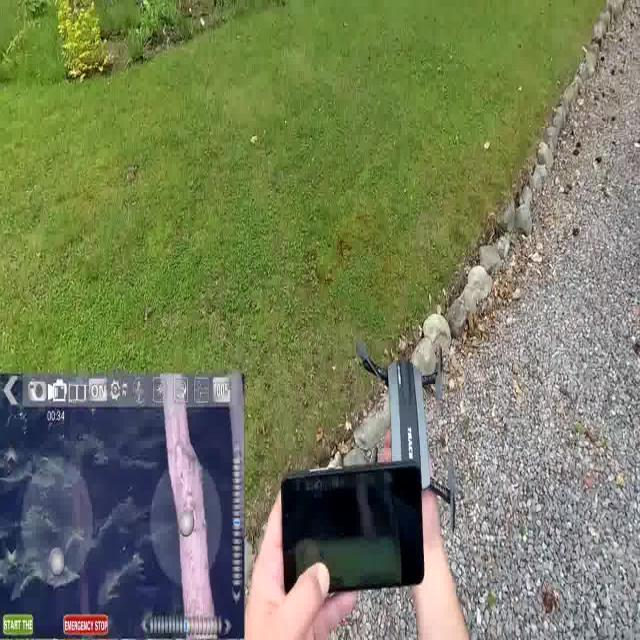drones: (350, 332, 465, 540)
